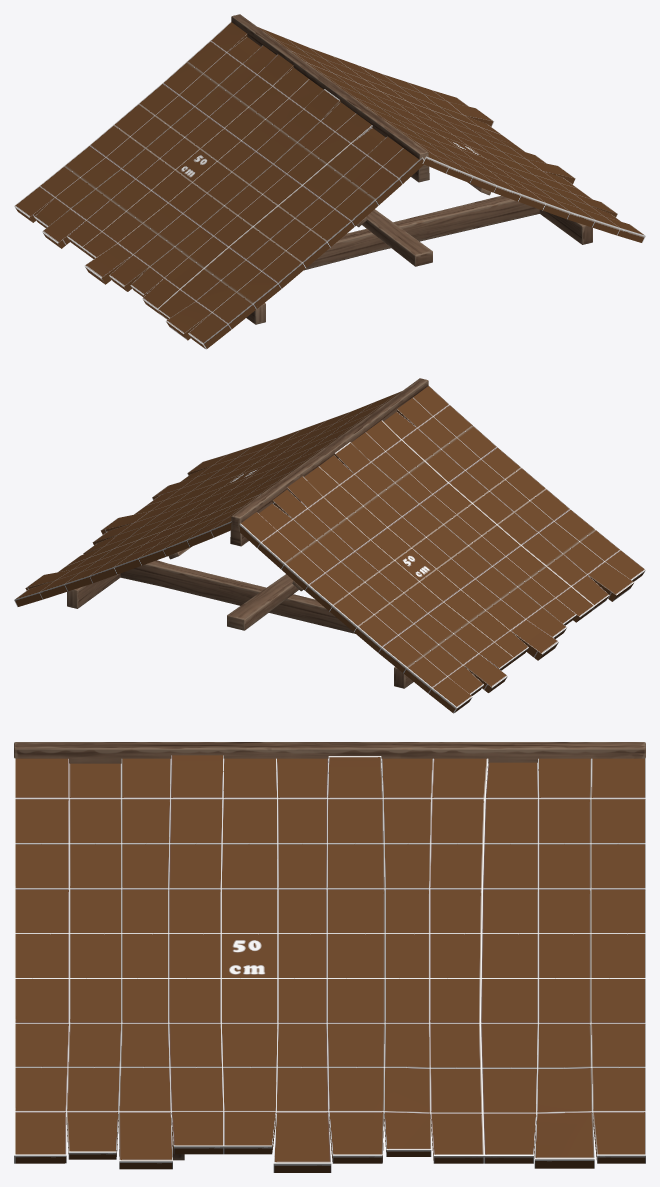
Rendered from Hangar01RM_1.FBX.
3 views of the same model, one above another, from view 1: azimuth 30°, elevation 25°; view 2: azimuth 150°, elevation 25°; view 3: azimuth 270°, elevation 25° (orthographic). The views are drawn at different scales.
Visible parts, largest first — view 1: Hangar01RM_1; view 2: Hangar01RM_1; view 3: Hangar01RM_1.
Boxes of the visible parts, box(x1,y1,x2,y2) form: Hangar01RM_1: box(14, 14, 645, 349); Hangar01RM_1: box(14, 378, 645, 713); Hangar01RM_1: box(14, 742, 645, 1172).
Size of what is drawn, in the model's own units: 6.3 by 1.97 by 4.5.
